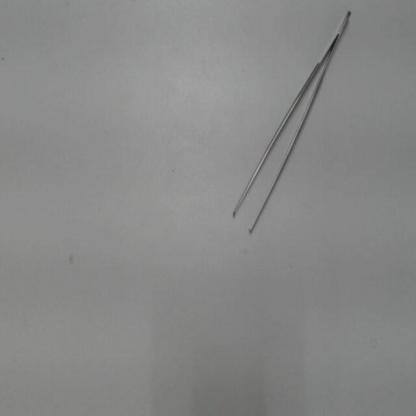Gillies Toothed Dissector: (226, 5, 362, 244)
